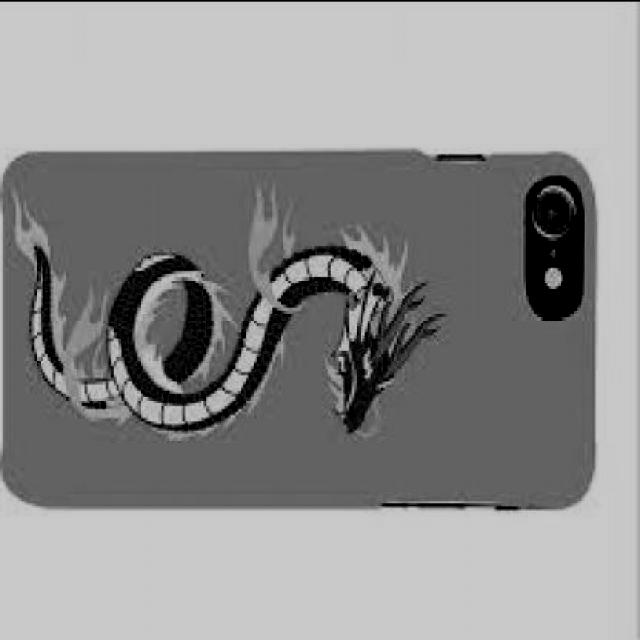fake: (2, 153, 598, 512)
